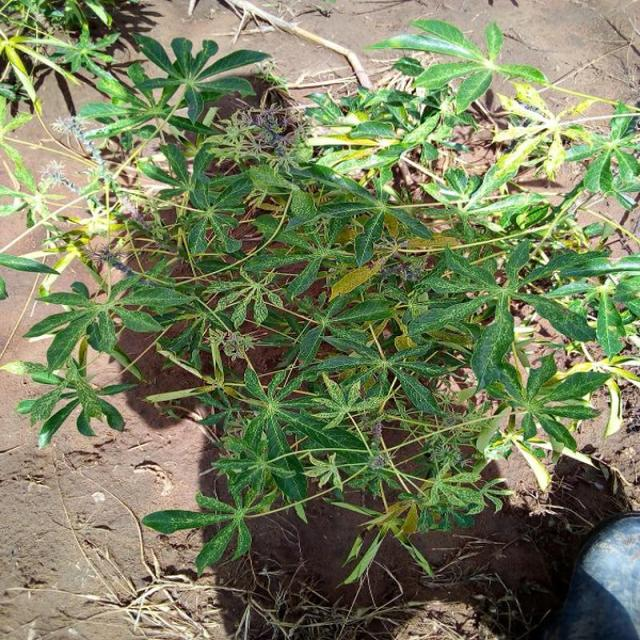cassava leaf: (2, 13, 638, 584)
